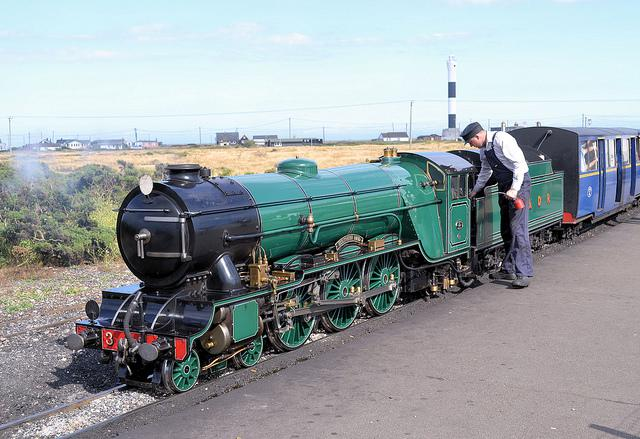Train: (71, 126, 640, 398)
